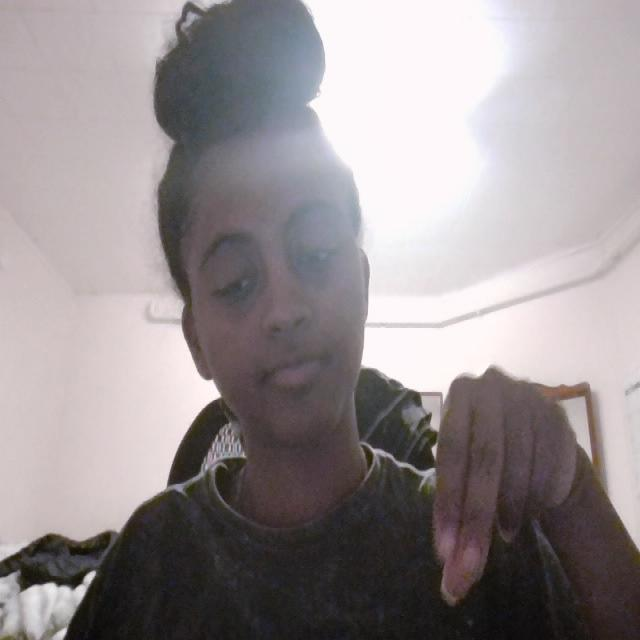no: (408, 313, 603, 627)
